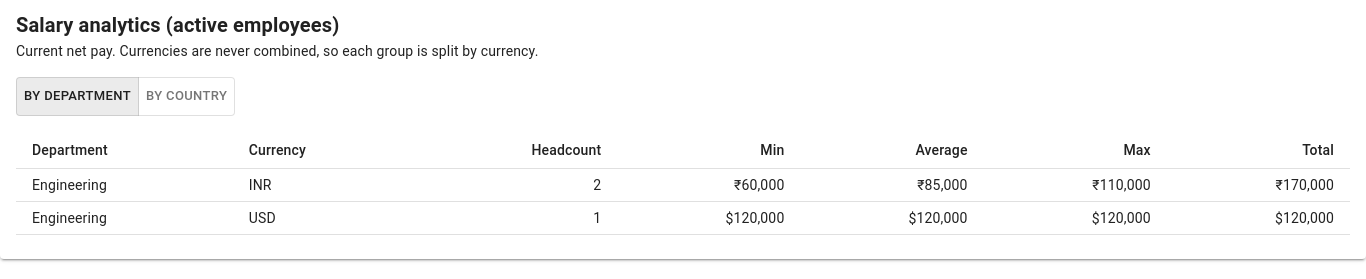
Test: switches to grouping by country
Click the button "By country".
click(187, 96)  # box [138,77,235,116]
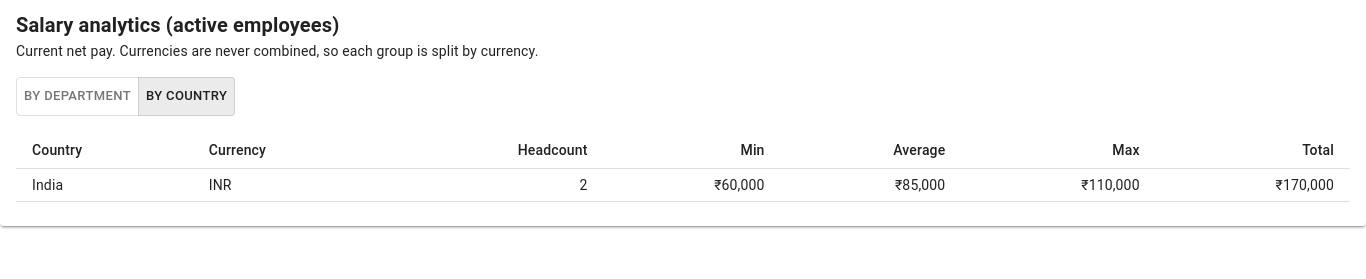
Expected: the text "India" is shown, [16,168,193,201]
Expected: the text "Engineering" is gone
